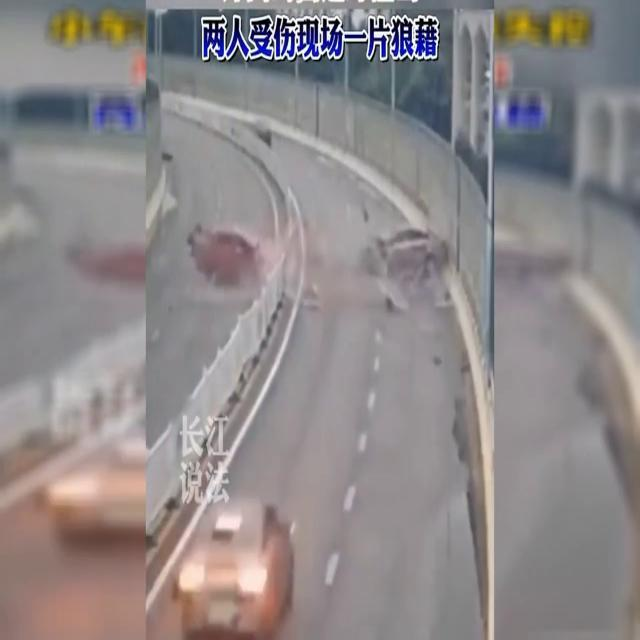multiple_accident: (178, 170, 487, 313)
normal: (158, 468, 293, 640)
